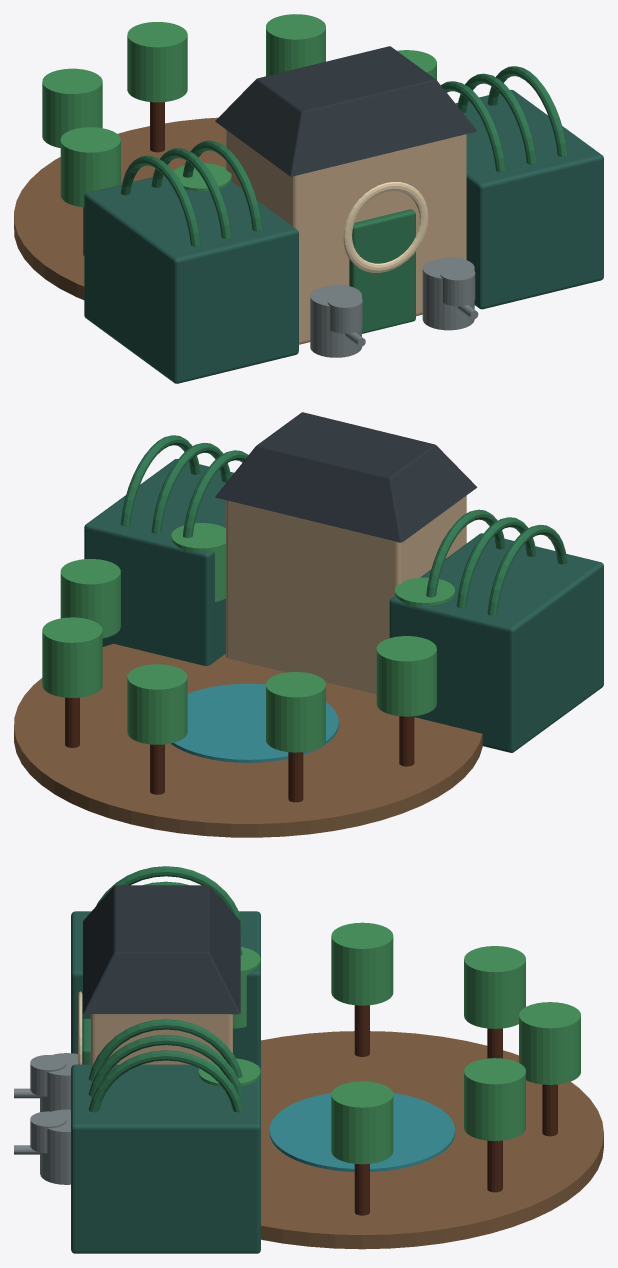
The model's file is paris-zoo.glb.
The picture shows the model from 3 angles, top to bottom: view 1: azimuth 30°, elevation 25°; view 2: azimuth 150°, elevation 25°; view 3: azimuth 270°, elevation 25°; orthographic projection. The views are drawn at different scales.
Parts seen in each view (by area): view 1: Optimized Paris landmark; view 2: Optimized Paris landmark; view 3: Optimized Paris landmark.
Boxes of the visible parts, left/top/right/bottom form: Optimized Paris landmark: left=14, top=14, right=603, bottom=383; Optimized Paris landmark: left=14, top=412, right=603, bottom=837; Optimized Paris landmark: left=14, top=866, right=603, bottom=1253.
Size of the model in its own units: 11.84 by 5.85 by 13.67.
